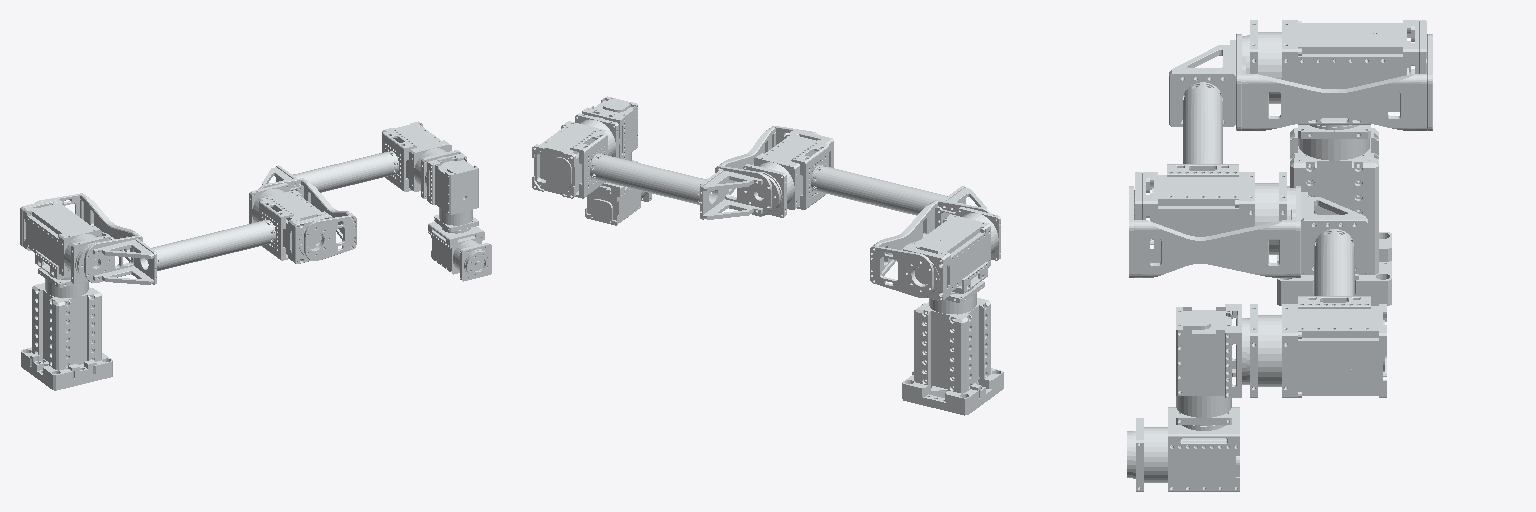
URDF robot description (single_arm_v19):
<?xml version="1.0" encoding="utf-8"?>
<!-- This URDF was automatically created by SolidWorks to URDF Exporter! Originally created by [author] ([email redacted]) 
     Commit Version: 1.6.0-4-g7f85cfe  Build Version: 1.6.7995.38578
     For more information, please see http://wiki.ros.org/sw_urdf_exporter -->
<robot
  name="single_arm_v19">
  <link name="dummy"/>
  <joint name="dummy_joint" type="fixed">
    <parent link="dummy"/>
    <child link="base_link"/>
    </joint>
  <link name='base_link'>
  <!-- <link
    name="base_link"> -->
    <inertial>
      <origin
        xyz="-0.00010098 -0.00035109 0.054127"
        rpy="0 0 0" />
      <mass
        value="2.94316" />
      <inertia
        ixx="0.00082016"
        ixy="3.555E-10"
        ixz="-4.1821E-06"
        iyy="0.00081979"
        iyz="-1.4527E-07"
        izz="0.00035328" />
    </inertial>
    <visual>
      <origin
        xyz="0 0 0"
        rpy="0 0 0" />
      <geometry>
        <mesh
          filename="package://single_arm_v19/meshes/base_link.STL" />
      </geometry>
      <material
        name="">
        <color
          rgba="0.89804 0.91765 0.92941 1" />
      </material>
    </visual>
    <collision>
      <origin
        xyz="0 0 0"
        rpy="0 0 0" />
      <geometry>
        <mesh
          filename="package://single_arm_v19/meshes/base_link.STL" />
      </geometry>
    </collision>
  </link>
  <link
    name="link1">
    <inertial>
      <origin
        xyz="3.305E-06 0.0036146 0.029085"
        rpy="0 0 0" />
      <mass
        value="0.93428" />
      <inertia
        ixx="0.00048112"
        ixy="-7.0827E-08"
        ixz="-3.5566E-10"
        iyy="0.00018986"
        iyz="4.1821E-06"
        izz="0.0004948" />
    </inertial>
    <visual>
      <origin
        xyz="0 0 0"
        rpy="0 0 0" />
      <geometry>
        <mesh
          filename="package://single_arm_v19/meshes/link1.STL" />
      </geometry>
      <material
        name="">
        <color
          rgba="0.89804 0.91765 0.92941 1" />
      </material>
    </visual>
    <collision>
      <origin
        xyz="0 0 0"
        rpy="0 0 0" />
      <geometry>
        <mesh
          filename="package://single_arm_v19/meshes/link1.STL" />
      </geometry>
    </collision>
  </link>
  <joint
    name="joint1"
    type="revolute">
    <origin
      xyz="0 0 0.1445"
      rpy="0 0 0" />
    <parent
      link="base_link" />
    <child
      link="link1" />
    <axis
      xyz="0 0 1" />
    <limit
      lower="-3.14"
      upper="3.14"
      effort="0"
      velocity="0" />
  </joint>
  <link
    name="link2">
    <inertial>
      <origin
        xyz="0.18004 2.4369E-07 0.0061614"
        rpy="0 0 0" />
      <mass
        value="1.07602" />
      <inertia
        ixx="0.00051784"
        ixy="-2.1135E-12"
        ixz="3.6733E-07"
        iyy="0.00076385"
        iyz="-4.2672E-10"
        izz="0.00050582" />
    </inertial>
    <visual>
      <origin
        xyz="0 0 0"
        rpy="0 0 0" />
      <geometry>
        <mesh
          filename="package://single_arm_v19/meshes/link2.STL" />
      </geometry>
      <material
        name="">
        <color
          rgba="0.89804 0.91765 0.92941 1" />
      </material>
    </visual>
    <collision>
      <origin
        xyz="0 0 0"
        rpy="0 0 0" />
      <geometry>
        <mesh
          filename="package://single_arm_v19/meshes/link2.STL" />
      </geometry>
    </collision>
  </link>
  <joint
    name="joint2"
    type="revolute">
    <origin
      xyz="0 -0.0685 0.0315"
      rpy="1.5708 0 0" />
    <parent
      link="link1" />
    <child
      link="link2" />
    <axis
      xyz="0 0 1" />
    <limit
      lower="-3.14"
      upper="3.14"
      effort="0"
      velocity="0" />
  </joint>
  <link
    name="link3">
    <inertial>
      <origin
        xyz="2.2281E-07 0.15321 0.0030804"
        rpy="0 0 0" />
      <mass
        value="1.00039" />
      <inertia
        ixx="0.00058978"
        ixy="-1.0211E-11"
        ixz="9.0438E-10"
        iyy="0.000451"
        iyz="1.2577E-06"
        izz="0.00035885" />
    </inertial>
    <visual>
      <origin
        xyz="0 0 0"
        rpy="0 0 0" />
      <geometry>
        <mesh
          filename="package://single_arm_v19/meshes/link3.STL" />
      </geometry>
      <material
        name="">
        <color
          rgba="0.89804 0.91765 0.92941 1" />
      </material>
    </visual>
    <collision>
      <origin
        xyz="0 0 0"
        rpy="0 0 0" />
      <geometry>
        <mesh
          filename="package://single_arm_v19/meshes/link3.STL" />
      </geometry>
    </collision>
  </link>
  <joint
    name="joint3"
    type="revolute">
    <origin
      xyz="0.2675 0 -0.039"
      rpy="-3.1416 0 1.5708" />
    <parent
      link="link2" />
    <child
      link="link3" />
    <axis
      xyz="0 0 1" />
    <limit
      lower="-3.14"
      upper="3.14"
      effort="0"
      velocity="0" />
  </joint>
  <link
    name="link4">
    <inertial>
      <origin
        xyz="-2.2204E-16 -0.01039 0.02404"
        rpy="0 0 0" />
      <mass
        value="0.36924" />
      <inertia
        ixx="9.4187E-05"
        ixy="1.14E-19"
        ixz="1.4502E-16"
        iyy="4.476E-05"
        iyz="-5.3346E-07"
        izz="0.0001027" />
    </inertial>
    <visual>
      <origin
        xyz="0 0 0"
        rpy="0 0 0" />
      <geometry>
        <mesh
          filename="package://single_arm_v19/meshes/link4.STL" />
      </geometry>
      <material
        name="">
        <color
          rgba="0.89804 0.91765 0.92941 1" />
      </material>
    </visual>
    <collision>
      <origin
        xyz="0 0 0"
        rpy="0 0 0" />
      <geometry>
        <mesh
          filename="package://single_arm_v19/meshes/link4.STL" />
      </geometry>
    </collision>
  </link>
  <joint
    name="joint4"
    type="revolute">
    <origin
      xyz="0 0.2324 -0.039"
      rpy="-3.1416 0 1.5708" />
    <parent
      link="link3" />
    <child
      link="link4" />
    <axis
      xyz="0 0 1" />
    <limit
      lower="-3.14"
      upper="3.14"
      effort="0"
      velocity="0" />
  </joint>
  <link
    name="link5">
    <inertial>
      <origin
        xyz="-0.010457 -5.5511E-17 0.028614"
        rpy="0 0 0" />
      <mass
        value="0.36821" />
      <inertia
        ixx="4.3878E-05"
        ixy="-1.0699E-19"
        ixz="-5.3346E-07"
        iyy="9.3658E-05"
        iyz="-1.4501E-16"
        izz="0.00010133" />
    </inertial>
    <visual>
      <origin
        xyz="0 0 0"
        rpy="0 0 0" />
      <geometry>
        <mesh
          filename="package://single_arm_v19/meshes/link5.STL" />
      </geometry>
      <material
        name="">
        <color
          rgba="0.89804 0.91765 0.92941 1" />
      </material>
    </visual>
    <collision>
      <origin
        xyz="0 0 0"
        rpy="0 0 0" />
      <geometry>
        <mesh
          filename="package://single_arm_v19/meshes/link5.STL" />
      </geometry>
    </collision>
  </link>
  <joint
    name="joint5"
    type="revolute">
    <origin
      xyz="0 -0.052 0.0286"
      rpy="1.5708 1.5708 0" />
    <parent
      link="link4" />
    <child
      link="link5" />
    <axis
      xyz="0 0 1" />
    <limit
      lower="-3.14"
      upper="3.14"
      effort="0"
      velocity="0" />
  </joint>
  <link
    name="link6">
    <inertial>
      <origin
        xyz="-5.3794E-07 1.1102E-16 0.0070001"
        rpy="0 0 0" />
      <mass
        value="0.025977" />
      <inertia
        ixx="2.2053E-06"
        ixy="1.7867E-22"
        ixz="-3.285E-23"
        iyy="2.2053E-06"
        iyz="-9.777E-22"
        izz="3.9777E-06" />
    </inertial>
    <visual>
      <origin
        xyz="0 0 0"
        rpy="0 0 0" />
      <geometry>
        <mesh
          filename="package://single_arm_v19/meshes/link6.STL" />
      </geometry>
      <material
        name="">
        <color
          rgba="0.89804 0.91765 0.92941 1" />
      </material>
    </visual>
    <collision>
      <origin
        xyz="0 0 0"
        rpy="0 0 0" />
      <geometry>
        <mesh
          filename="package://single_arm_v19/meshes/link6.STL" />
      </geometry>
    </collision>
  </link>
  <joint
    name="joint6"
    type="revolute">
    <origin
      xyz="-0.055 0 0.033001"
      rpy="3.1416 -1.5708 0" />
    <parent
      link="link5" />
    <child
      link="link6" />
    <axis
      xyz="0 0 -1" />
    <limit
      lower="-3.14"
      upper="3.14"
      effort="0"
      velocity="0" />
  </joint>
</robot>

--- What the picture shows (computed from the rendered views, not written in the file) ---
Views: 3 orthographic renders of the robot side by side, from view 1: azimuth 30°, elevation 25°; view 2: azimuth 150°, elevation 25°; view 3: azimuth 270°, elevation 25°.
Robot: single_arm_v19 — 8 links, 7 joints (6 revolute, 1 fixed); root link dummy; default pose: every joint at zero.
Visible links, largest first — view 1: link2, link3, base_link, link1, link4, link5; view 2: link3, link2, base_link, link1, link5, link4; view 3: link3, link2, link1, base_link, link4, link5.
Link boxes in pixels (box(x1,y1,x2,y2)): link2: box(35, 183, 332, 284); link3: box(258, 121, 460, 260); base_link: box(21, 267, 112, 390); link1: box(20, 198, 110, 284); link4: box(426, 153, 478, 231); link5: box(428, 222, 491, 281); link3: box(532, 113, 818, 219); link2: box(743, 129, 991, 297); base_link: box(902, 281, 1003, 415); link1: box(903, 207, 1000, 300); link5: box(585, 182, 651, 225); link4: box(582, 96, 637, 162); link3: box(1129, 186, 1386, 397); link2: box(1134, 34, 1432, 262); link1: box(1242, 20, 1426, 124); base_link: box(1277, 125, 1391, 305); link4: box(1176, 304, 1246, 425); link5: box(1127, 407, 1239, 491).
Bounding box of the posed robot: 0.5699 × 0.2271 × 0.206 m (x, y, z).
7 mesh visuals loaded from 7 distinct referenced files (7 binary STL).
